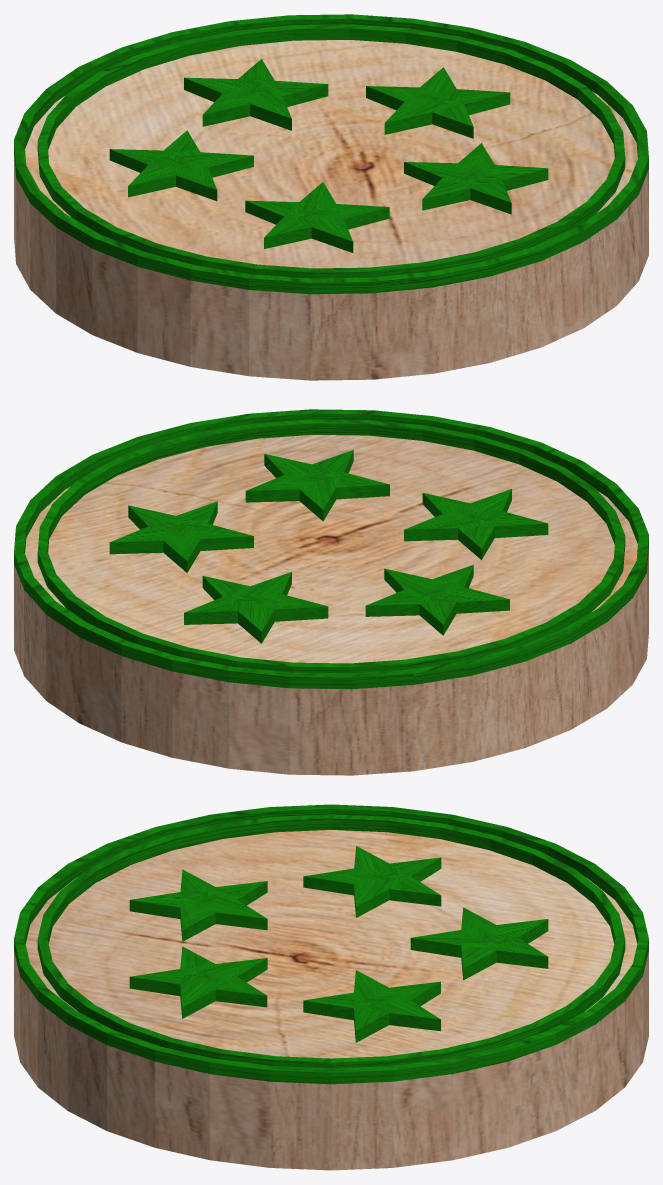
File: Sternestein5.fbx
The picture shows the model from 3 angles, top to bottom: view 1: azimuth 30°, elevation 25°; view 2: azimuth 150°, elevation 25°; view 3: azimuth 270°, elevation 25°; orthographic projection.
Parts seen in each view (by area): view 1: Stern5; view 2: Stern5; view 3: Stern5.
Boxes of the visible parts, x1,y1,x2,y2 form: Stern5: (14,14,648,380); Stern5: (14,409,648,775); Stern5: (14,804,648,1170).
Bounding box in the file's own units: 200 × 34.25 × 200.
